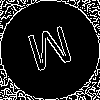M: (25, 25, 78, 81)
